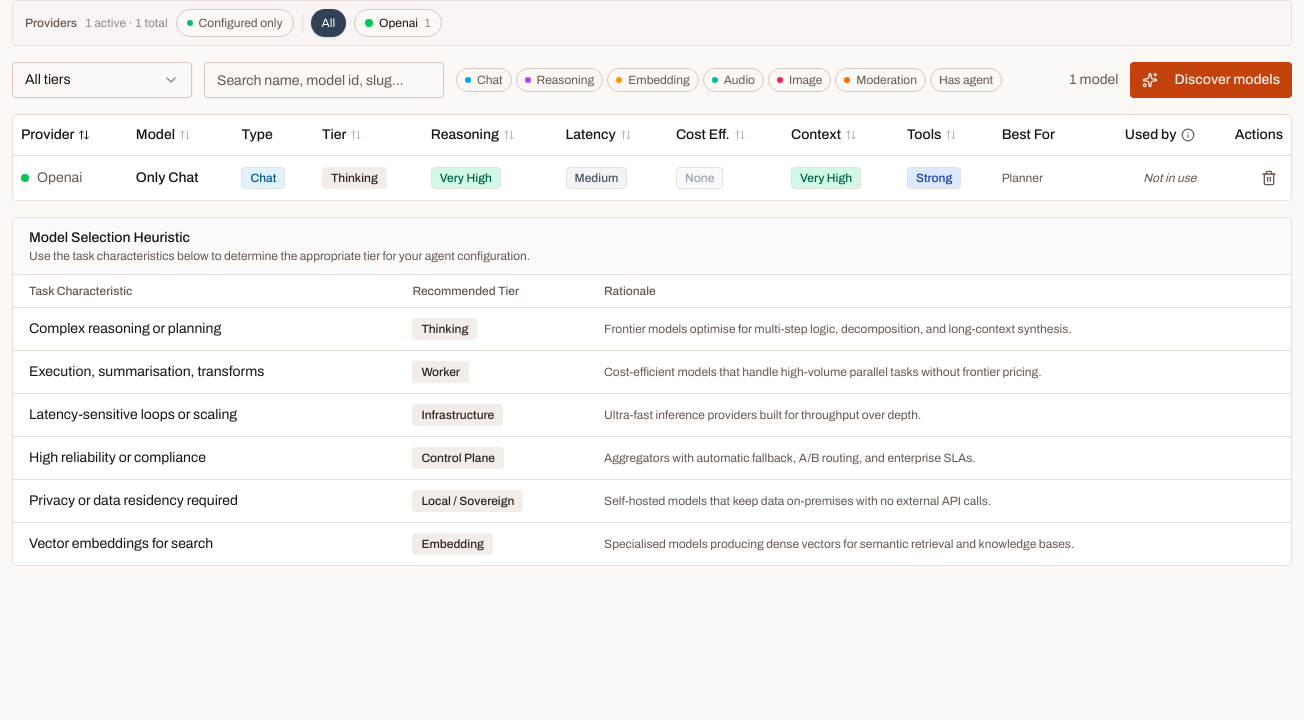
Test: ProviderModelsMatrix › model count updates to 0 after all models are filtered out
What coordinates should you click on to do the following:
click the button "Embedding"
I would click on:
 (653, 80)
Its box is x1=607 y1=68 x2=699 y2=92.
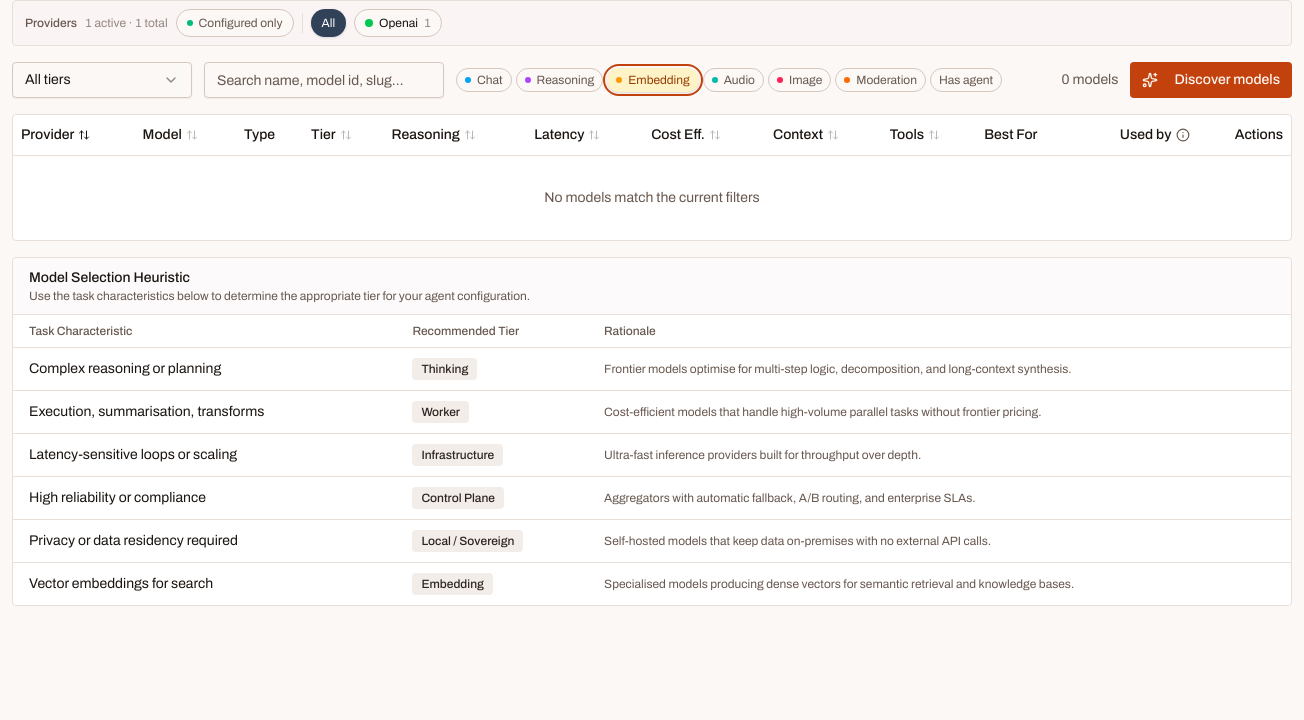
Now the text "0 models" is shown, box x1=1062 y1=70 x2=1118 y2=90
